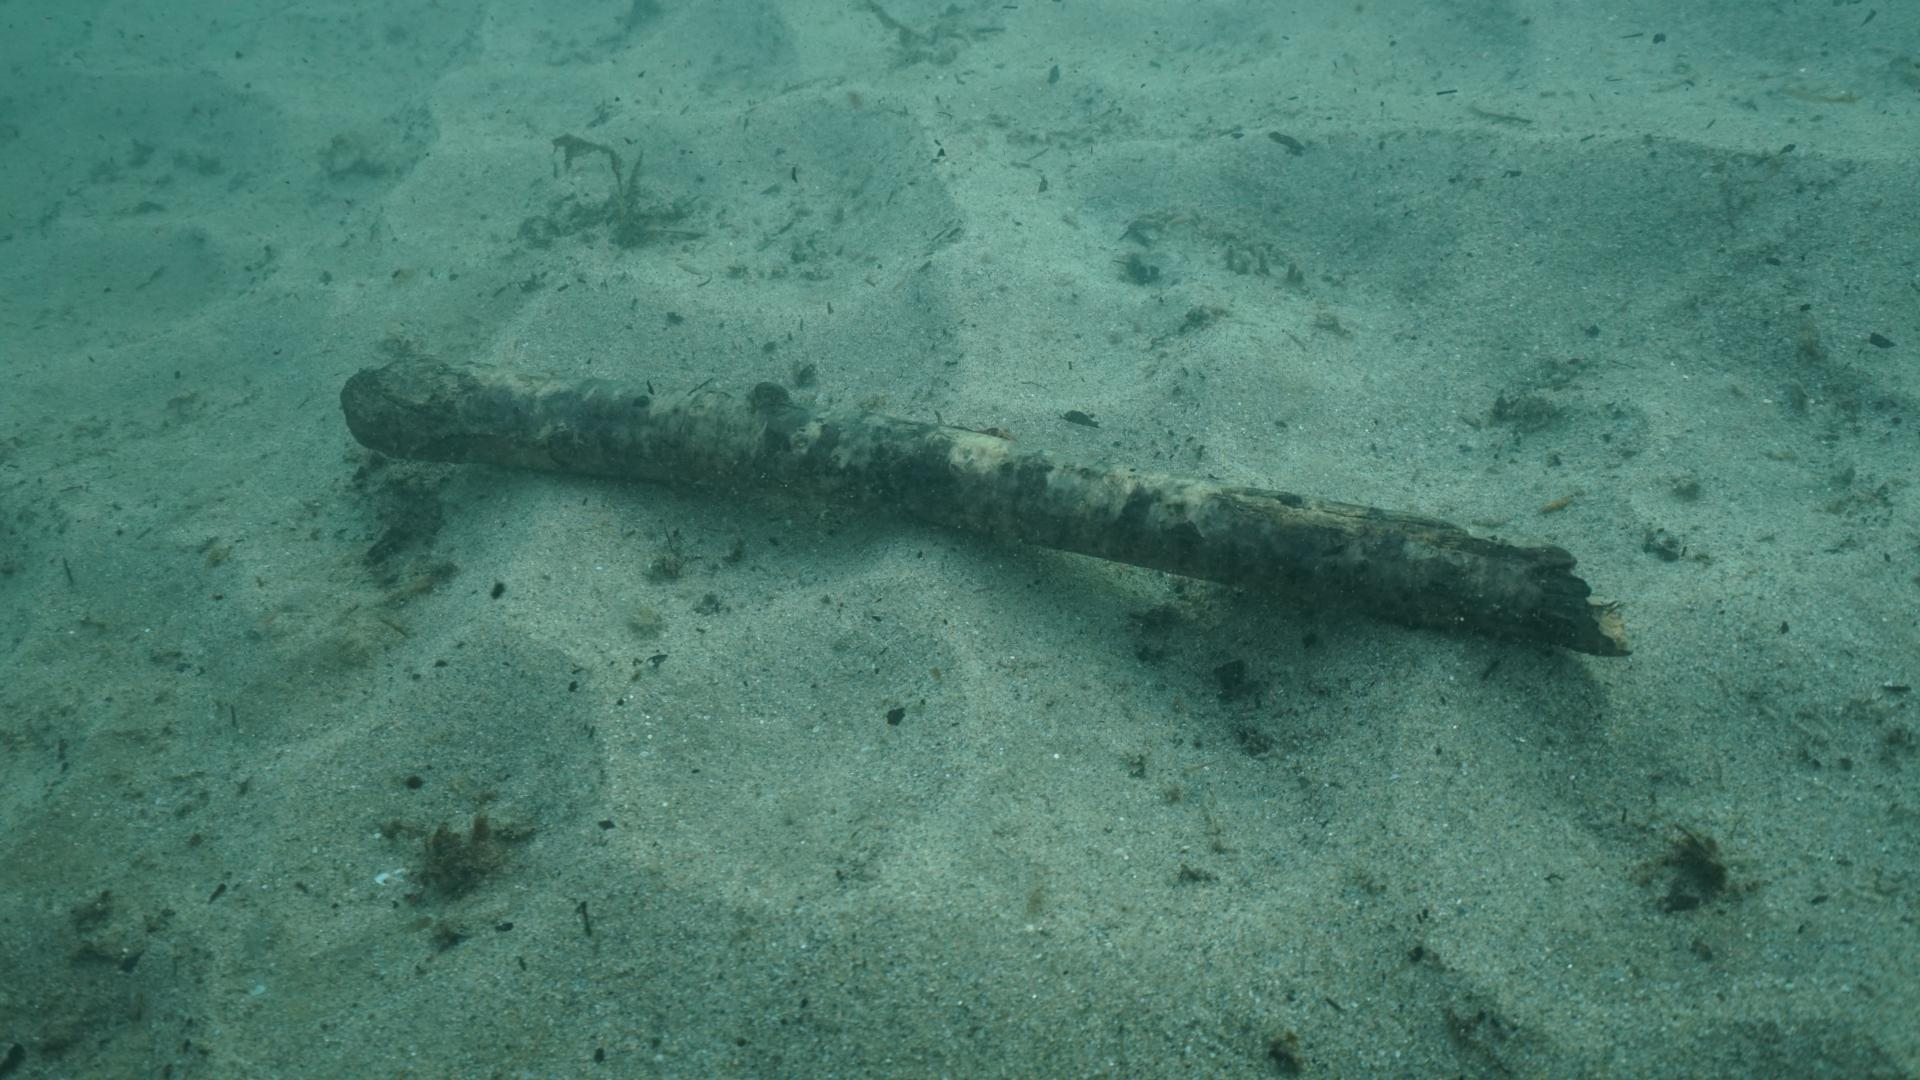wood: (336, 342, 1635, 657)
